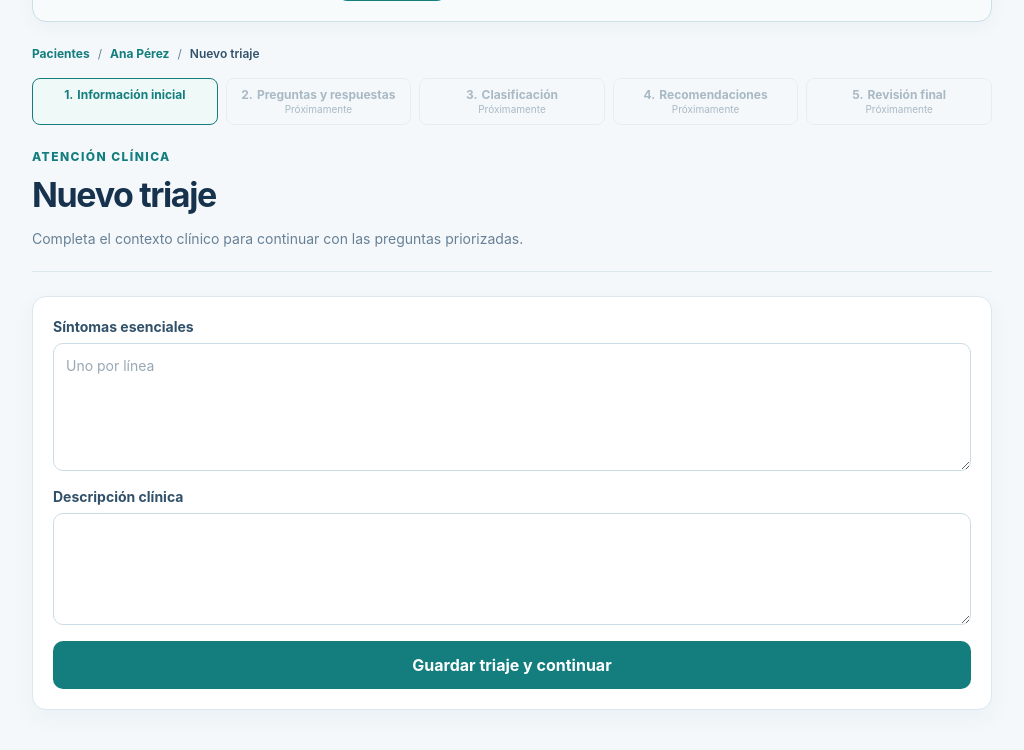
Test case: AuthenticatedLanding routed clinical workflow › does not claim saved when createTriage POST fails
(page scrolled)
Expected: the heading "Nuevo triaje" is shown, x1=32 y1=174 x2=216 y2=215
Type "Fiebre" into the text box labelled "Síntomas esenciales".
click(512, 407); type("Fiebre")  # box x1=53 y1=343 x2=971 y2=471
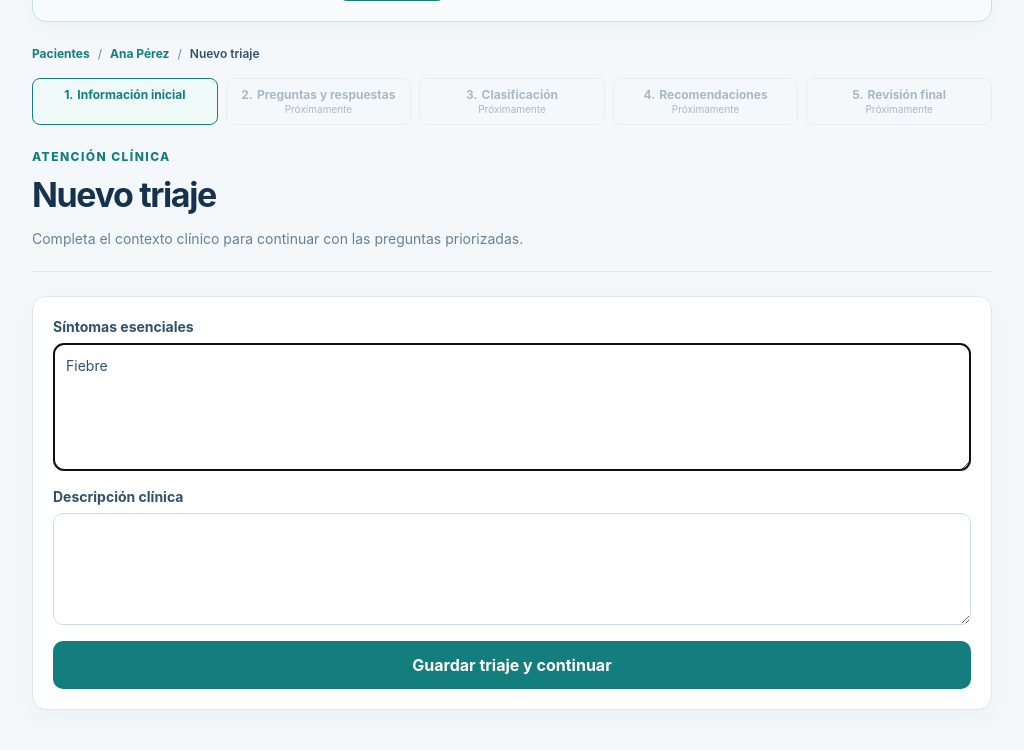
Type "Dos días" into the text box labelled "Descripción clínica".
click(512, 569); type("Dos días")  # box x1=53 y1=513 x2=971 y2=625
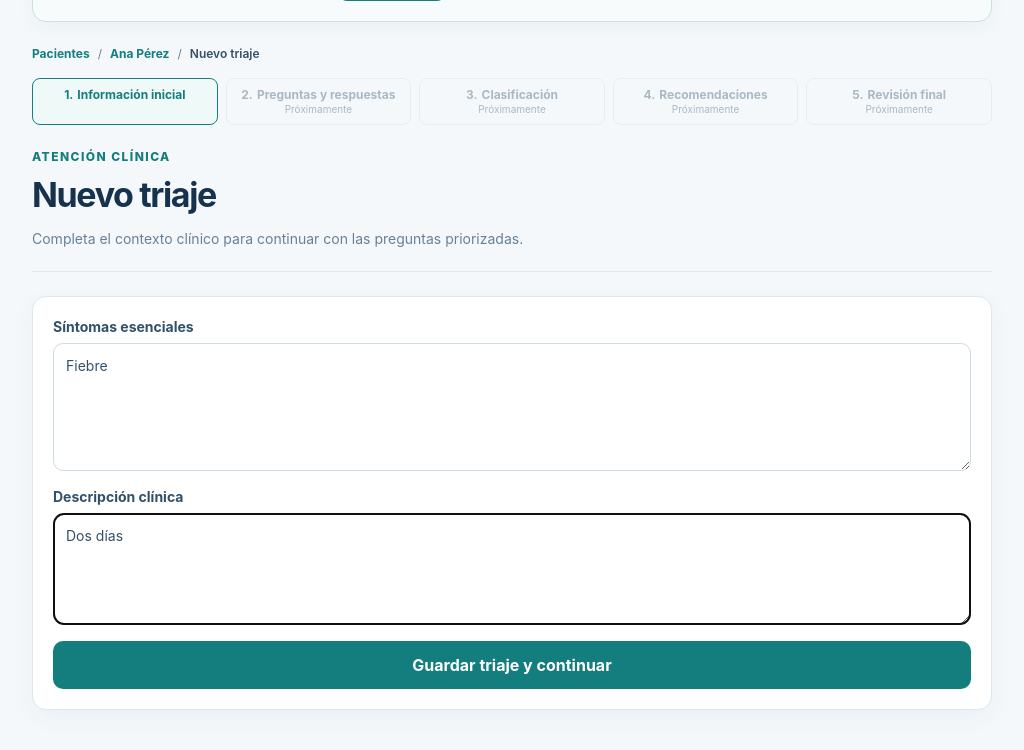
Click the button "Guardar triaje y continuar".
click(512, 665)  # box x1=53 y1=641 x2=971 y2=689
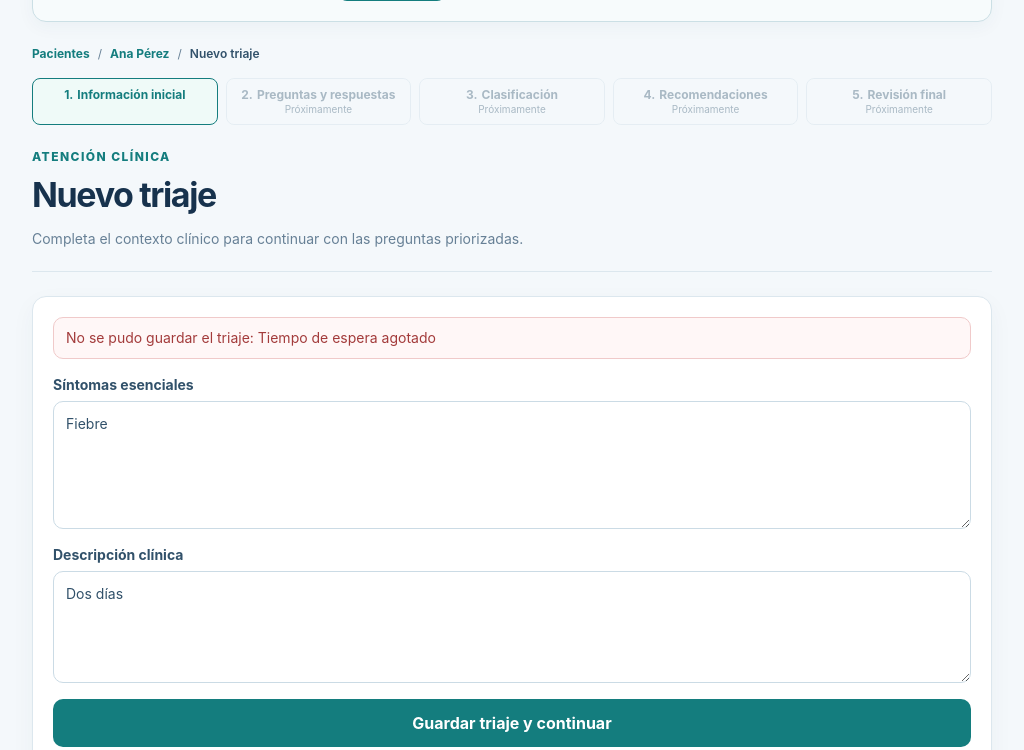
Expected: the message reads "No se pudo guardar el triaje: Tiempo de espera agotado", x1=66 y1=329 x2=436 y2=346
